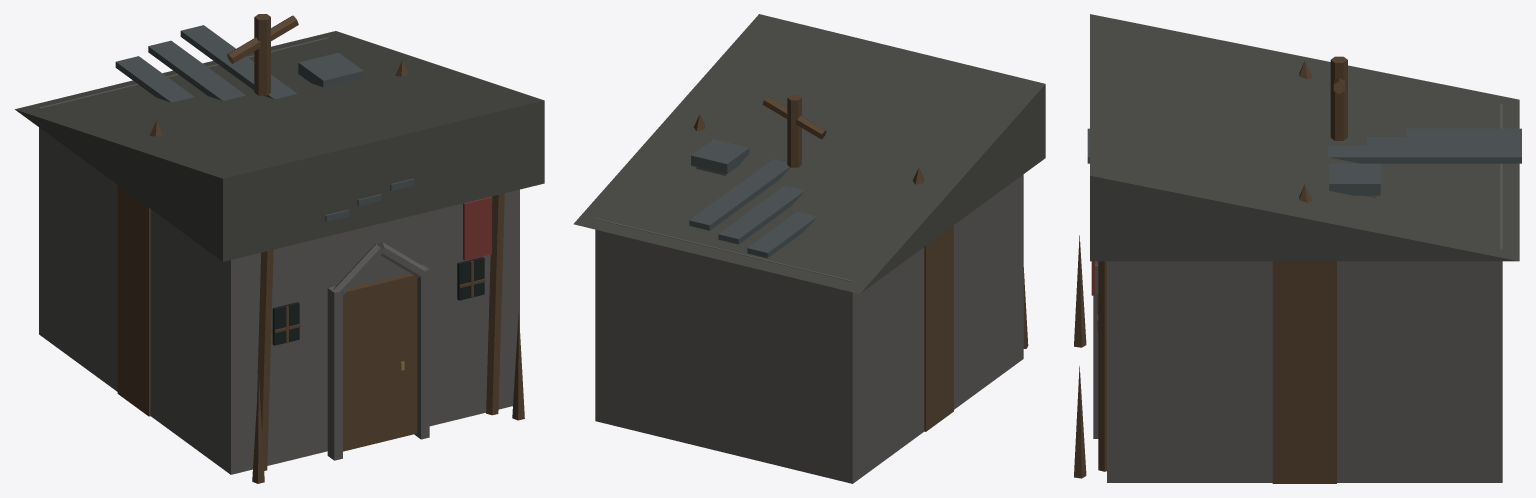
Rendered from outlaws.glb.
The picture shows the model from 3 angles, left to right: view 1: azimuth 30°, elevation 25°; view 2: azimuth 150°, elevation 25°; view 3: azimuth 270°, elevation 25°; orthographic projection. The views are drawn at different scales.
Visible parts, largest first — view 1: VIL_OUTLAWS_CHAPEL, VIL_OUTLAWS_GATE, VIL_OUTLAWS_WORKSHOP; view 2: VIL_OUTLAWS_CHAPEL, VIL_OUTLAWS_GATE, VIL_OUTLAWS_WORKSHOP; view 3: VIL_OUTLAWS_CHAPEL, VIL_OUTLAWS_GATE, VIL_OUTLAWS_WORKSHOP.
Boxes of the visible parts, x1,y1,x2,y2 form: VIL_OUTLAWS_CHAPEL: (15,14,544,483); VIL_OUTLAWS_GATE: (117,60,408,416); VIL_OUTLAWS_WORKSHOP: (298,52,363,87); VIL_OUTLAWS_CHAPEL: (573,14,1045,483); VIL_OUTLAWS_GATE: (693,114,953,431); VIL_OUTLAWS_WORKSHOP: (691,139,749,175); VIL_OUTLAWS_CHAPEL: (1074,14,1521,482); VIL_OUTLAWS_GATE: (1272,60,1336,483); VIL_OUTLAWS_WORKSHOP: (1329,163,1380,198).
Size of the model in its own units: 4.45 by 4.56 by 5.21.
